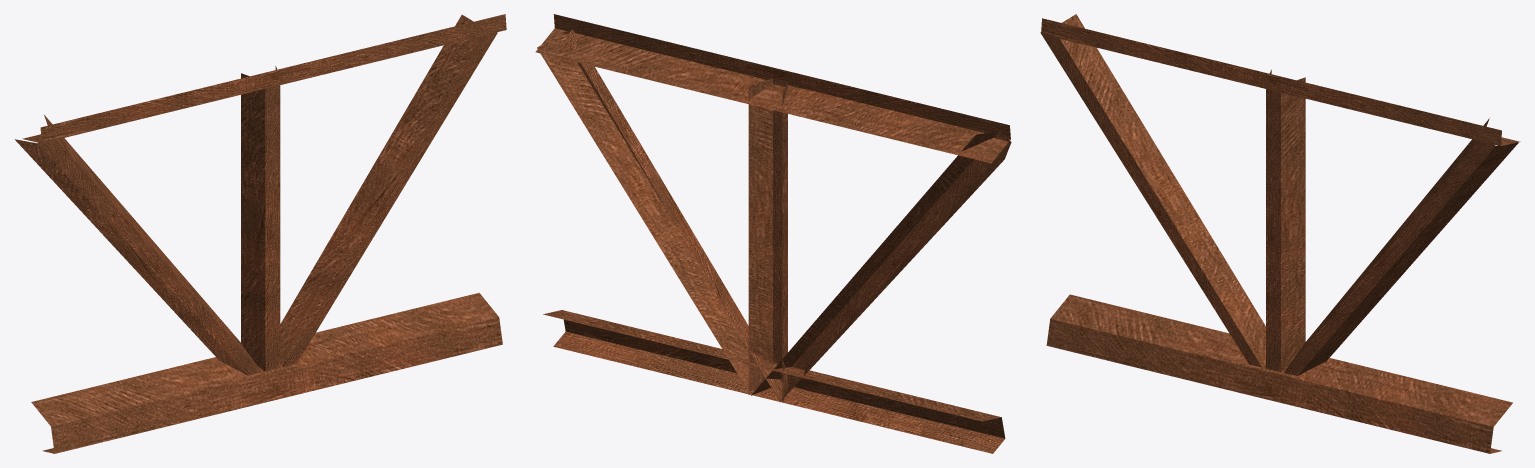
File: fanasty_mod_lar_top_V_beam.fbx
3 views of the same model, side by side, from view 1: azimuth 30°, elevation 25°; view 2: azimuth 150°, elevation 25°; view 3: azimuth 330°, elevation 25° (orthographic).
Visible parts, largest first — view 1: lar_top_V_beam; view 2: lar_top_V_beam; view 3: lar_top_V_beam.
Boxes of the visible parts, x1,y1,x2,y2 form: lar_top_V_beam: (15,14,506,453); lar_top_V_beam: (535,14,1011,453); lar_top_V_beam: (1040,14,1520,453).
Bounding box in the file's own units: 5.54 × 3.68 × 0.4728.
